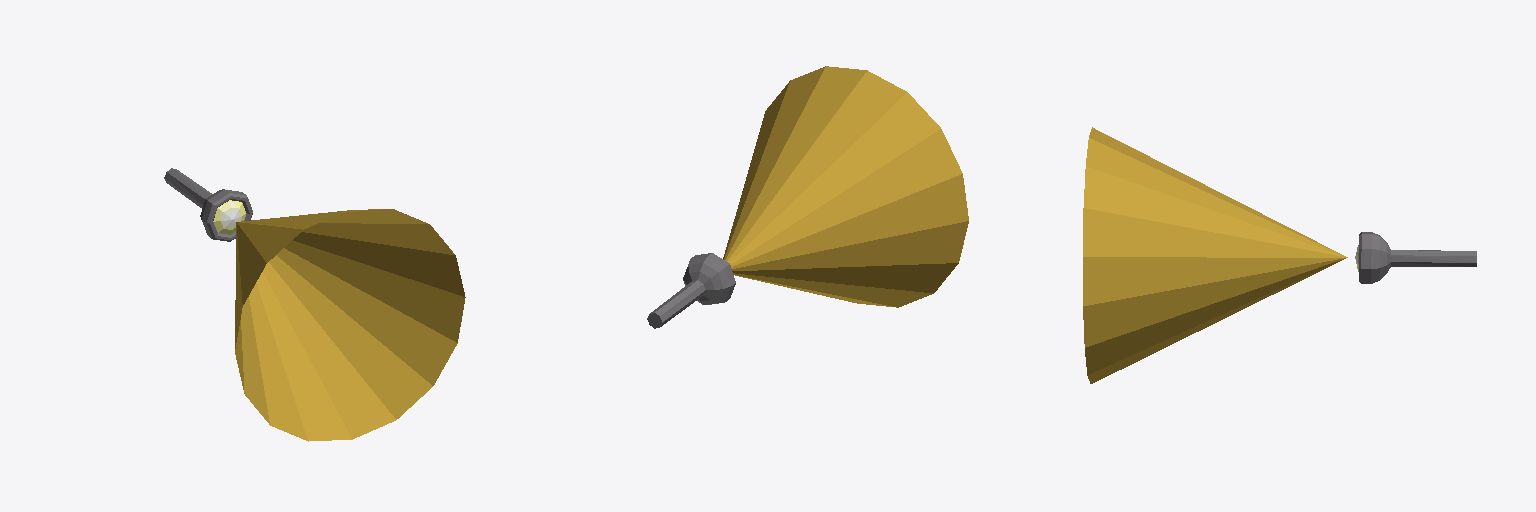
The picture shows the model from 3 angles: view 1: azimuth 30°, elevation 25°; view 2: azimuth 150°, elevation 25°; view 3: azimuth 270°, elevation 25°; orthographic projection.
Visible parts, largest first — view 1: RefRep.121.1_RefRep.1; view 2: RefRep.121.1_RefRep.1; view 3: RefRep.121.1_RefRep.1.
Part boxes in pixels (x1,y1,x2,y2): RefRep.121.1_RefRep.1: (164,168,465,441); RefRep.121.1_RefRep.1: (647,66,968,328); RefRep.121.1_RefRep.1: (1083,127,1476,383).
Bounding box in the file's own units: 0.341 × 0.3416 × 0.5246.
3 materials, 3 textured.